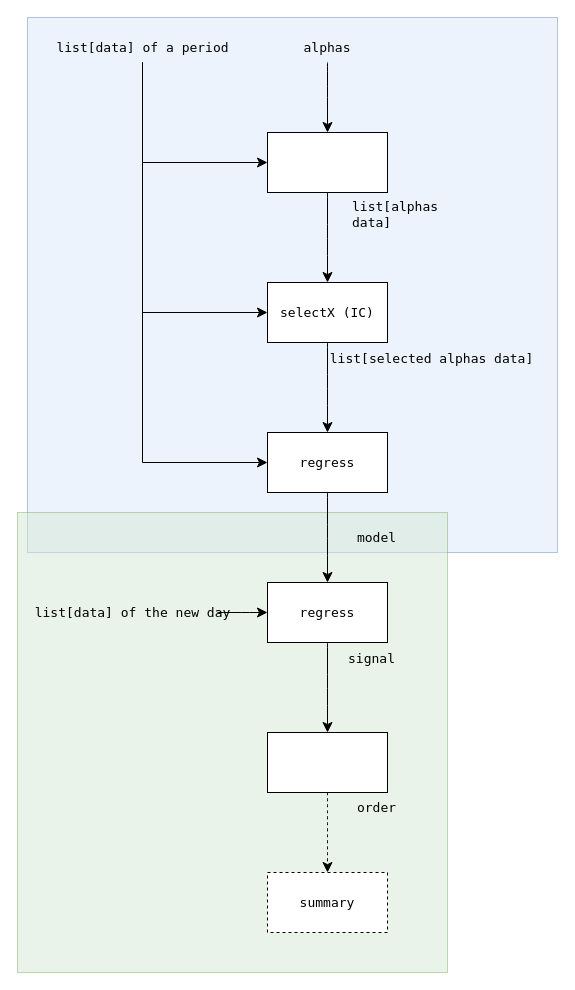
This 575x990 diagram has some shape labels left out. The centre of each missing label's shape, as x and y in pixels:
"collectX" belongs at (x=327, y=162).
"trader" belongs at (x=327, y=762).
